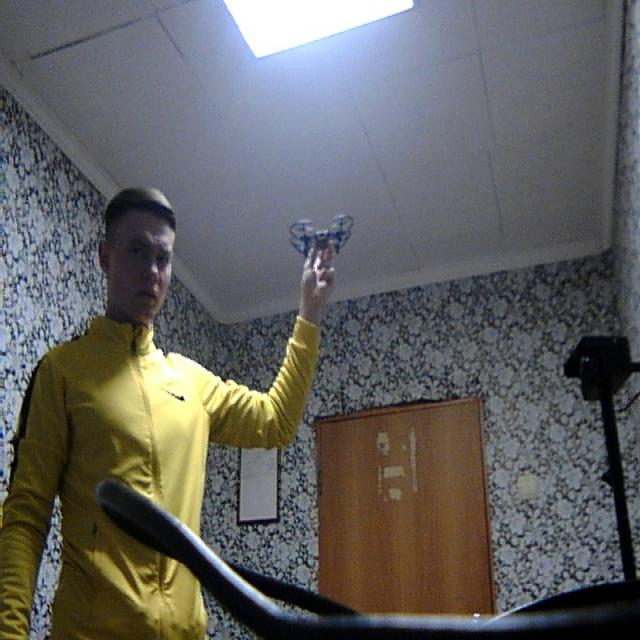drone: (282, 197, 364, 271)
